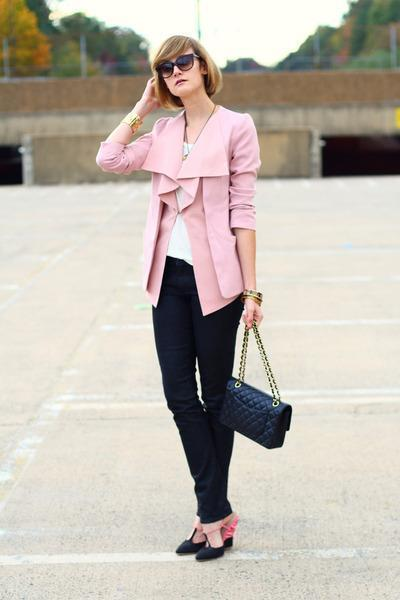bag: (220, 310, 291, 448)
jacket: (93, 108, 263, 315), (229, 205, 235, 226)
pants: (152, 256, 243, 523)
shirt: (160, 111, 205, 268)
shoe: (180, 528, 233, 561)
sunglass: (156, 56, 185, 83)
